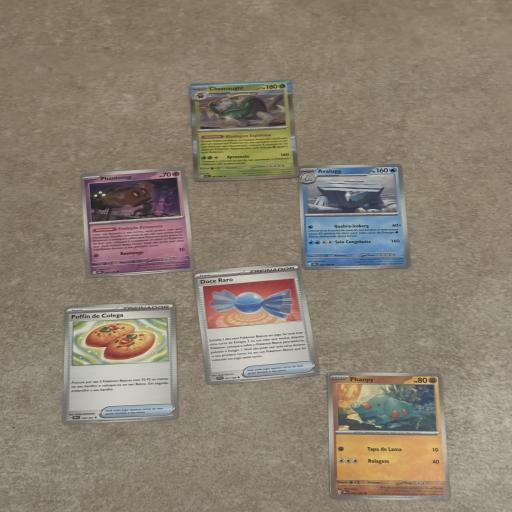card: (328, 372, 455, 501), (194, 261, 322, 387), (59, 300, 180, 425), (77, 164, 195, 282), (299, 163, 411, 272), (189, 78, 301, 183)
